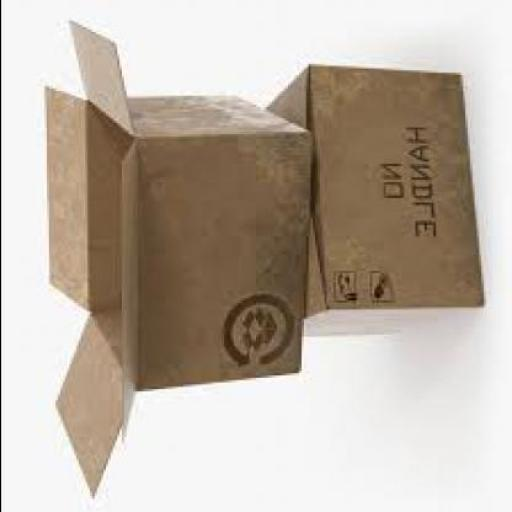cardboard: (41, 18, 310, 496), (264, 62, 482, 337)
